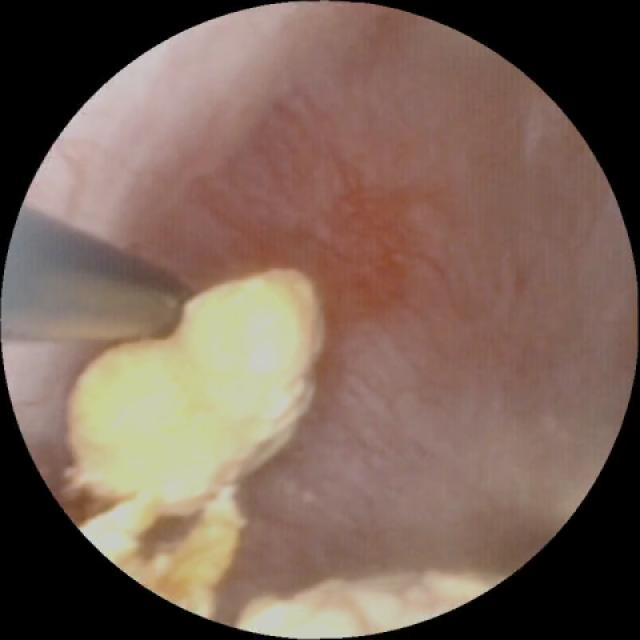stone: (64, 272, 324, 612), (244, 574, 488, 632)
tissue: (41, 8, 620, 578)
